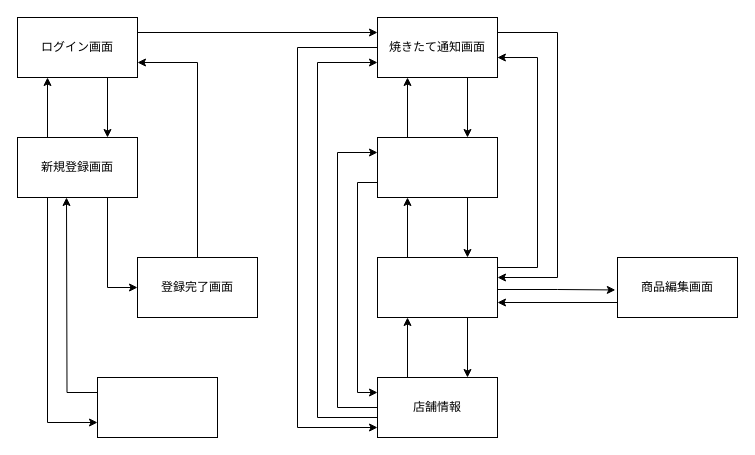
This 755x455 diagram has some shape labels left out. Here are the shapes that lost their labels. From the top down, the centre of each, then its label:
At pixel 437 167: "商品登録画面".
At pixel 437 287: "商品選択画面".
At pixel 157 407: "パスワードを忘れた場合画面".
